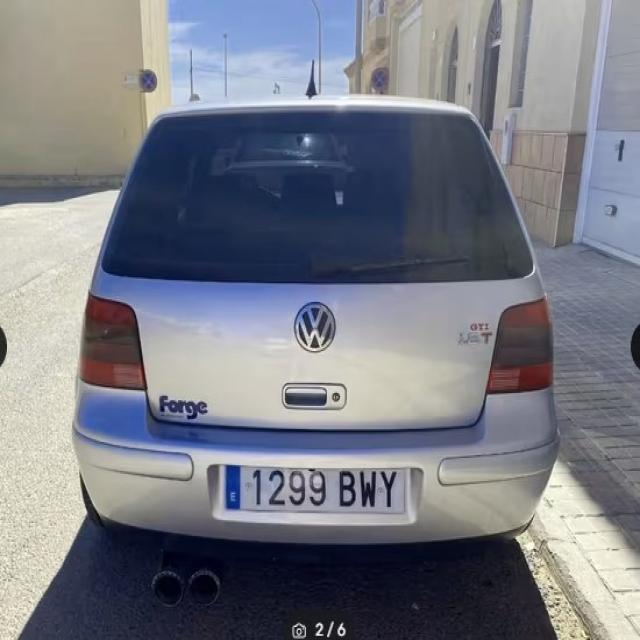football: (226, 462, 405, 514)
